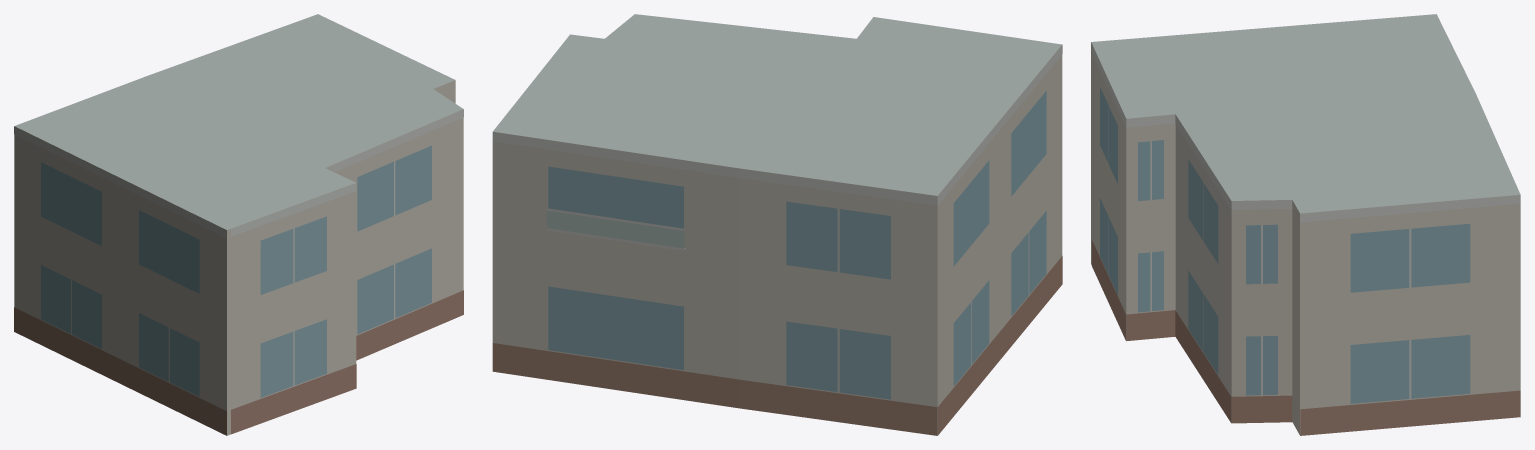
File: survey-upis-32722879.glb
3 views of the same model, side by side, from view 1: azimuth 30°, elevation 25°; view 2: azimuth 150°, elevation 25°; view 3: azimuth 270°, elevation 25° (orthographic). The views are drawn at different scales.
Visible parts, largest first — view 1: survey-upis-32722879.tmp; view 2: survey-upis-32722879.tmp; view 3: survey-upis-32722879.tmp.
Part boxes in pixels (x1=…): survey-upis-32722879.tmp: x1=14, y1=14, x2=463, y2=435; survey-upis-32722879.tmp: x1=492, y1=14, x2=1062, y2=435; survey-upis-32722879.tmp: x1=1091, y1=14, x2=1520, y2=435.
Size of the model in its own units: 11.75 by 6.1 by 10.69.
